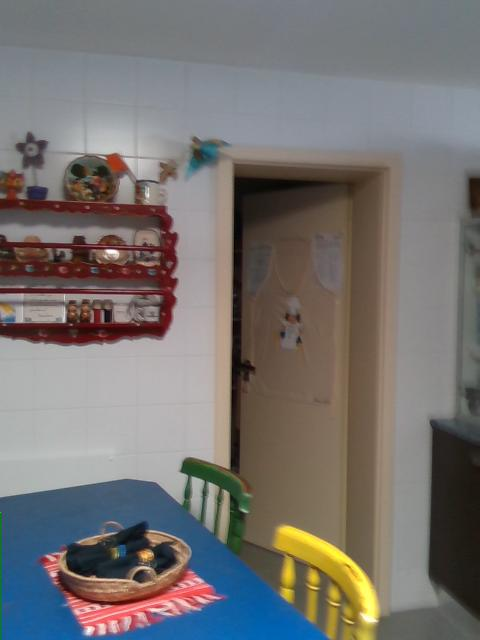semi_door: (212, 140, 400, 607)
